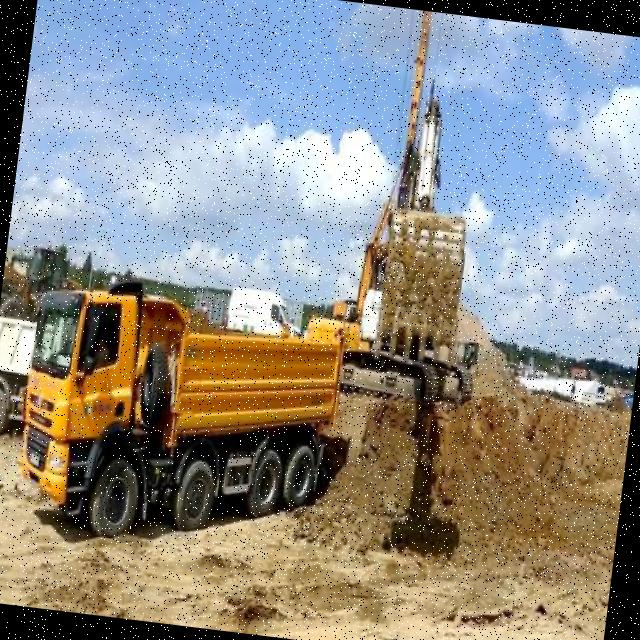Dump Truck: (8, 268, 348, 564), (0, 302, 63, 440)
Excavator: (334, 87, 507, 415)
